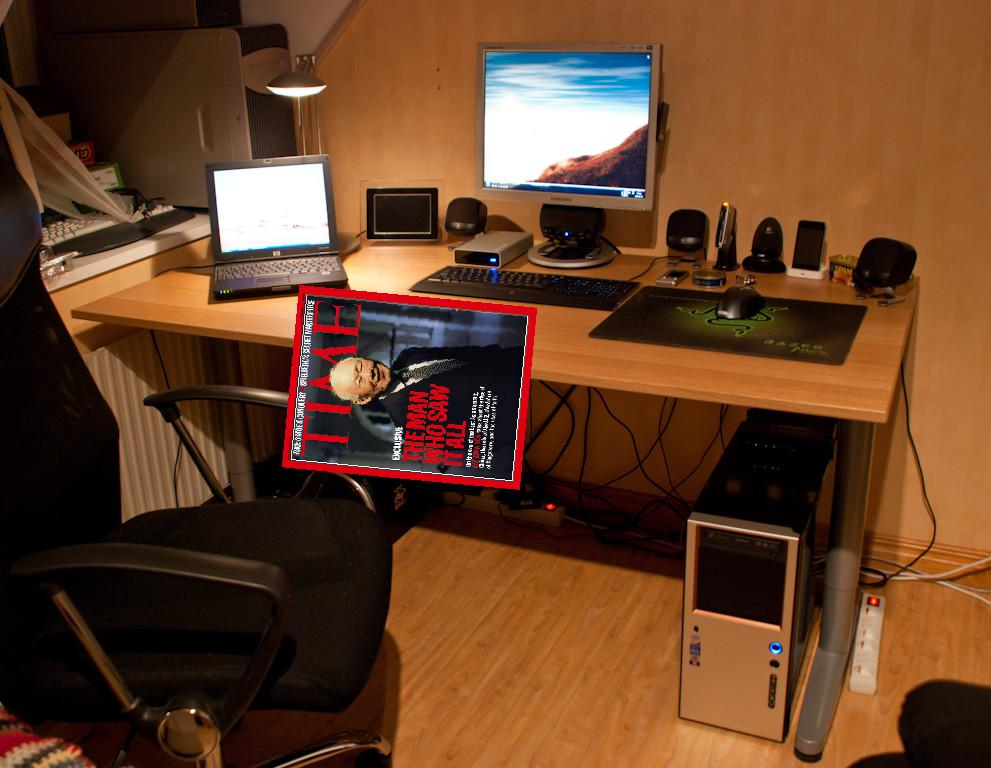times: (278, 282, 546, 492)
